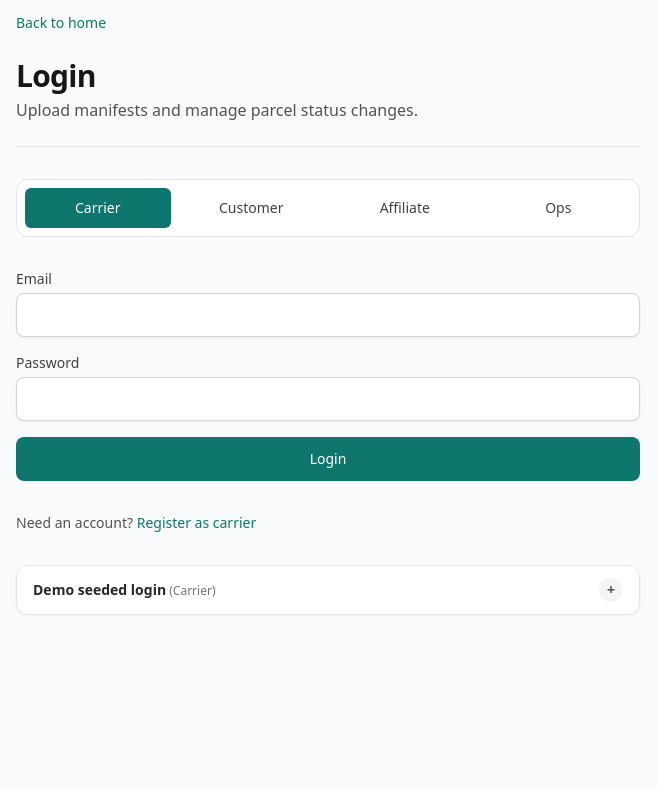
LoginForm › fill button for carrier populates email and password fields
Click the text "Demo seeded login(Carrier)" at (124, 590), box [33, 580, 216, 600]
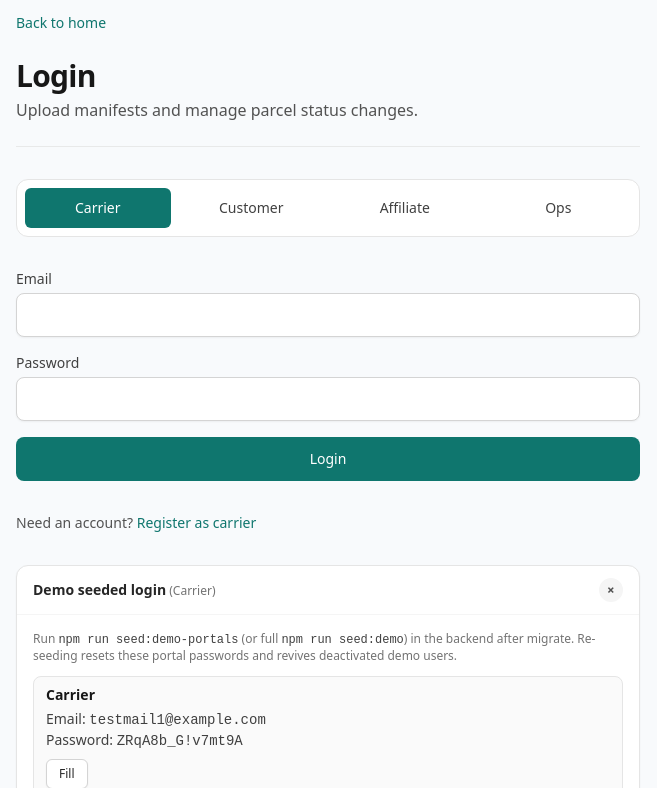
Click the button with aria-label "fill carrier demo credentials" at (67, 774), box [46, 759, 88, 787]
(page scrolled)
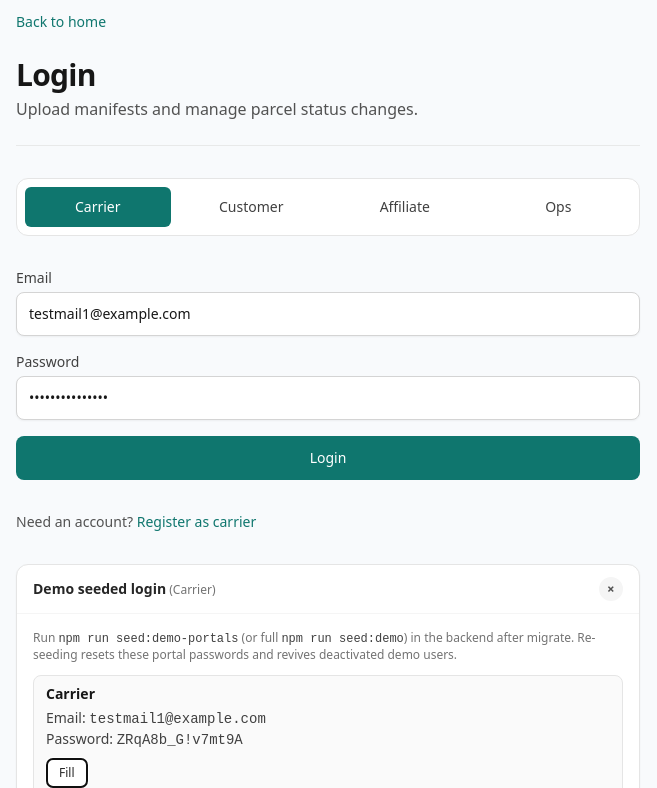
Check: the field labelled "Email" holds "testmail1@example.com", box [16, 292, 640, 336]
Check: the password field labelled "Password" holds "ZRqA8b_G!v7mt9A", box [16, 376, 640, 420]
